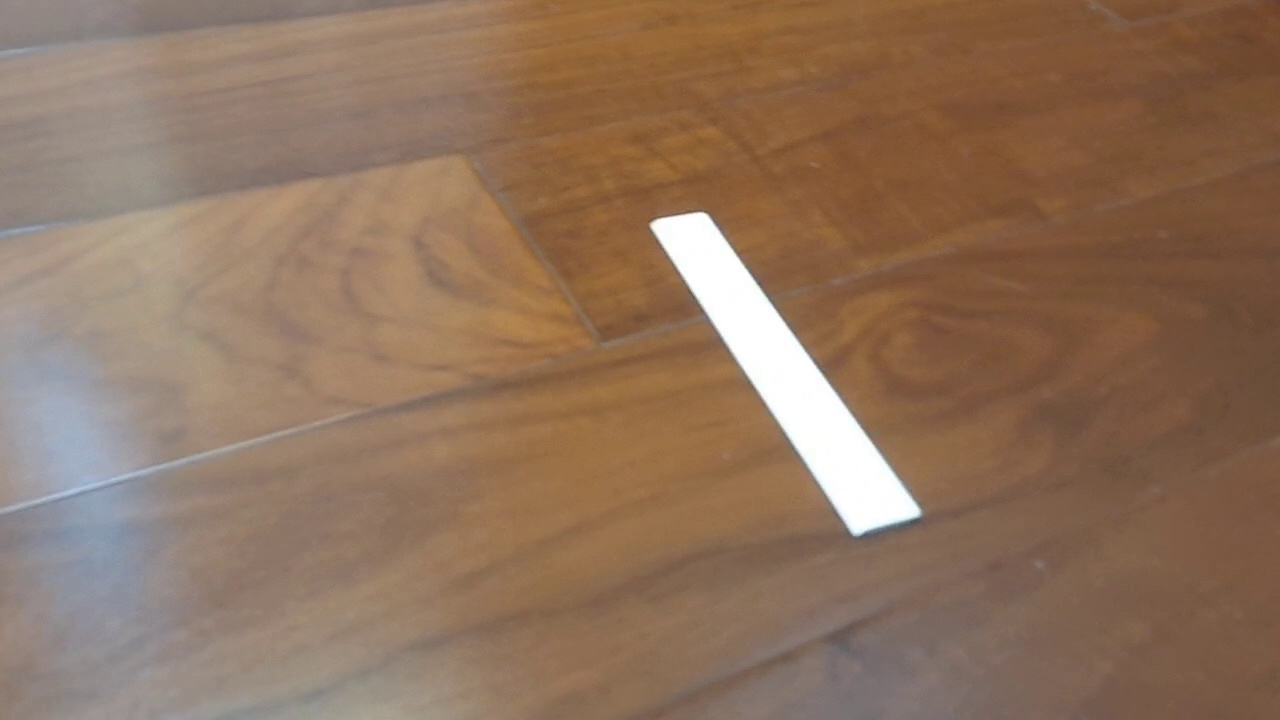ruler: (646, 209, 925, 540)
